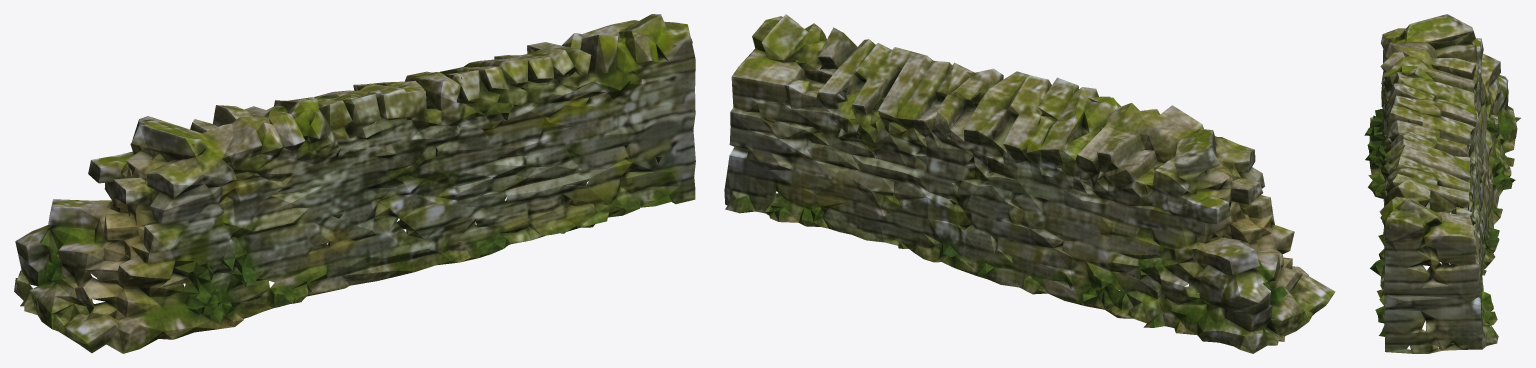
File: wall_a.glb
3 renders of one model, left to right at view 1: azimuth 30°, elevation 25°; view 2: azimuth 150°, elevation 25°; view 3: azimuth 270°, elevation 25°, orthographic. The views are drawn at different scales.
Parts seen in each view (by area): view 1: geometry_0; view 2: geometry_0; view 3: geometry_0.
Part boxes in pixels (bbox=[...]): geometry_0: bbox=[14, 14, 695, 353]; geometry_0: bbox=[724, 14, 1335, 353]; geometry_0: bbox=[1364, 14, 1520, 353].
Bounding box in the file's own units: 1 × 0.2939 × 0.2753.
Materials: 1 (1 with a texture image).
